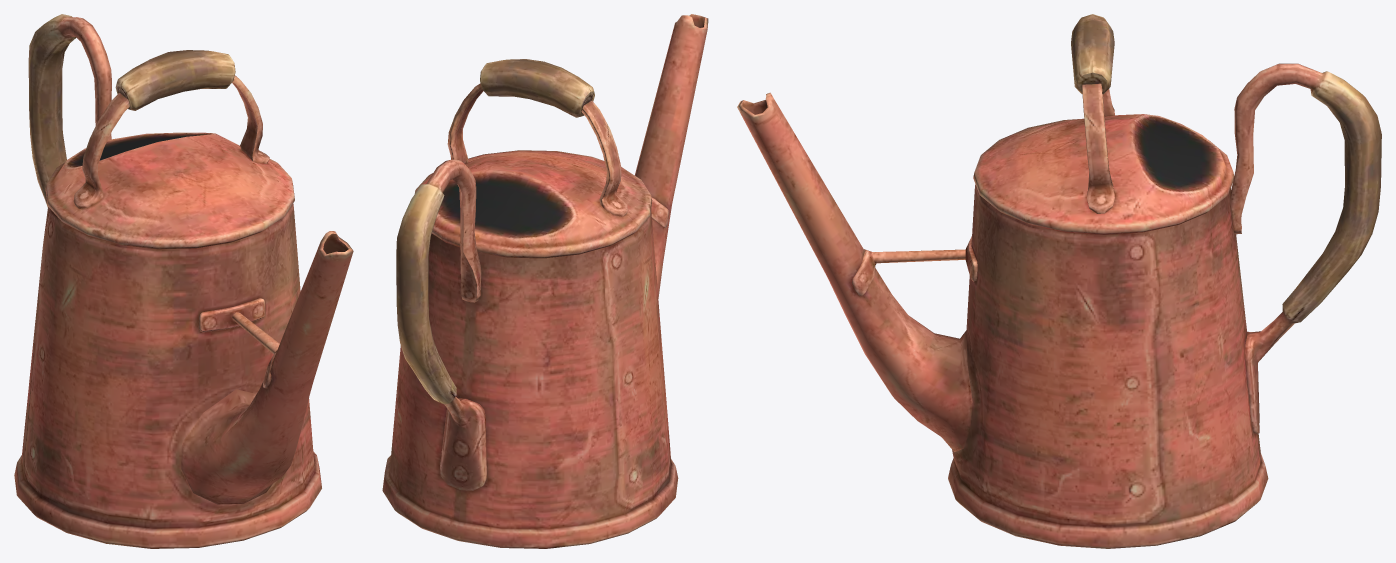
3 renders of one model, left to right at view 1: azimuth 30°, elevation 25°; view 2: azimuth 150°, elevation 25°; view 3: azimuth 270°, elevation 25°, orthographic. The views are drawn at different scales.
Parts seen in each view (by area): view 1: SM_WateringCan_Bronze_2H_01_LOD0; view 2: SM_WateringCan_Bronze_2H_01_LOD0; view 3: SM_WateringCan_Bronze_2H_01_LOD0.
Part boxes in pixels (x1,y1,x2,y2): SM_WateringCan_Bronze_2H_01_LOD0: [14, 14, 353, 548]; SM_WateringCan_Bronze_2H_01_LOD0: [382, 14, 708, 548]; SM_WateringCan_Bronze_2H_01_LOD0: [737, 14, 1381, 548].
Size of the model in its own units: 0.3196 by 0.4959 by 0.6386.
Materials: 1 (1 with a texture image).
